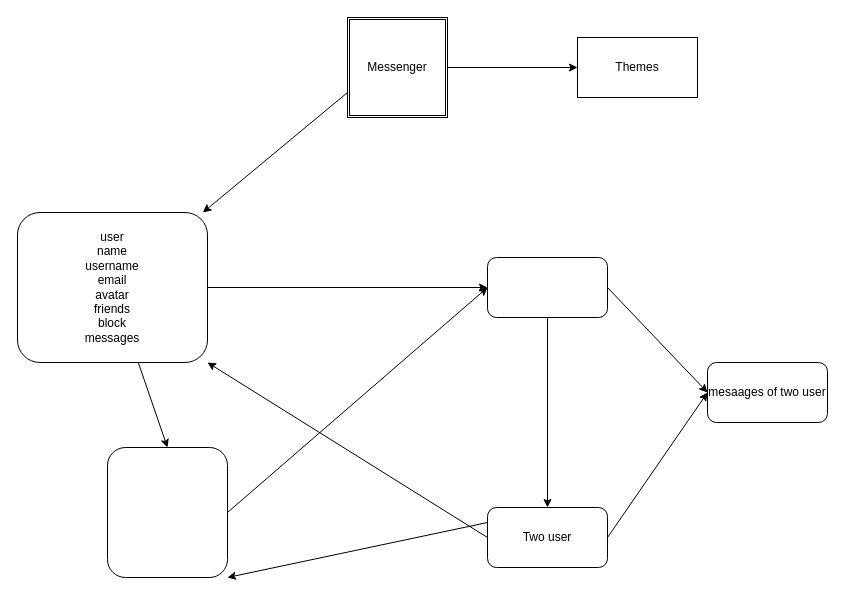
This 845x603 diagram has some shape labels left out. The shapes that lost their labels are listed below. From the top down, each one's centre as x and y in pixels, then its label:
At (547,287): "room".
At (167,512): "Friends name email messages avatar".
